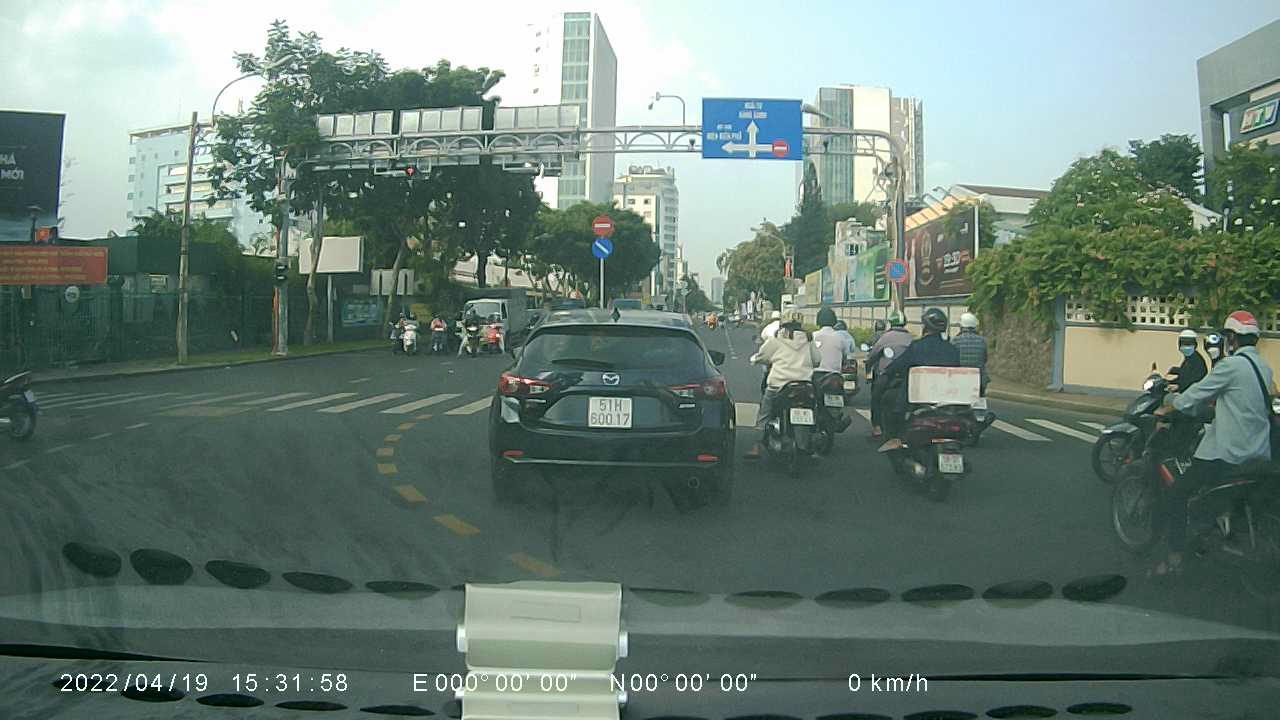Cam di nguoc chieu: (591, 212, 614, 237)
Cam do xe: (881, 255, 909, 284)
Huong di phai re phai: (592, 236, 615, 258)
